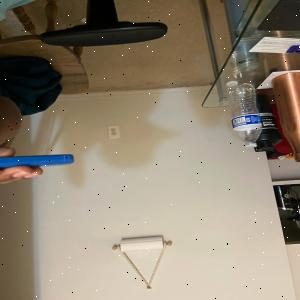Diamond-E-Ciggirate: (0, 151, 77, 183)
